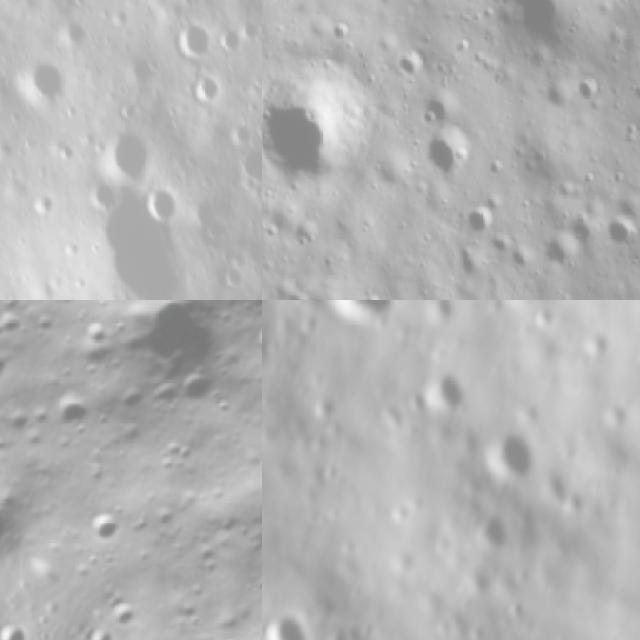crater: (262, 45, 390, 191), (102, 300, 245, 409), (480, 0, 598, 69), (91, 119, 163, 194), (418, 121, 487, 190), (2, 52, 68, 108), (170, 363, 228, 423), (479, 424, 535, 485), (76, 500, 132, 556), (43, 389, 99, 444), (534, 226, 585, 280), (162, 20, 218, 68), (312, 300, 410, 326), (422, 362, 475, 410), (466, 498, 517, 546), (262, 595, 316, 640), (417, 88, 464, 139), (221, 137, 262, 195), (138, 178, 182, 232), (100, 590, 146, 636), (184, 67, 224, 116), (458, 198, 501, 241), (599, 209, 640, 252), (560, 214, 600, 253), (56, 17, 94, 57), (0, 339, 27, 393), (212, 22, 244, 63), (573, 70, 605, 108), (392, 48, 427, 82), (244, 311, 262, 366), (33, 300, 88, 315), (358, 284, 392, 300), (0, 328, 4, 453)
